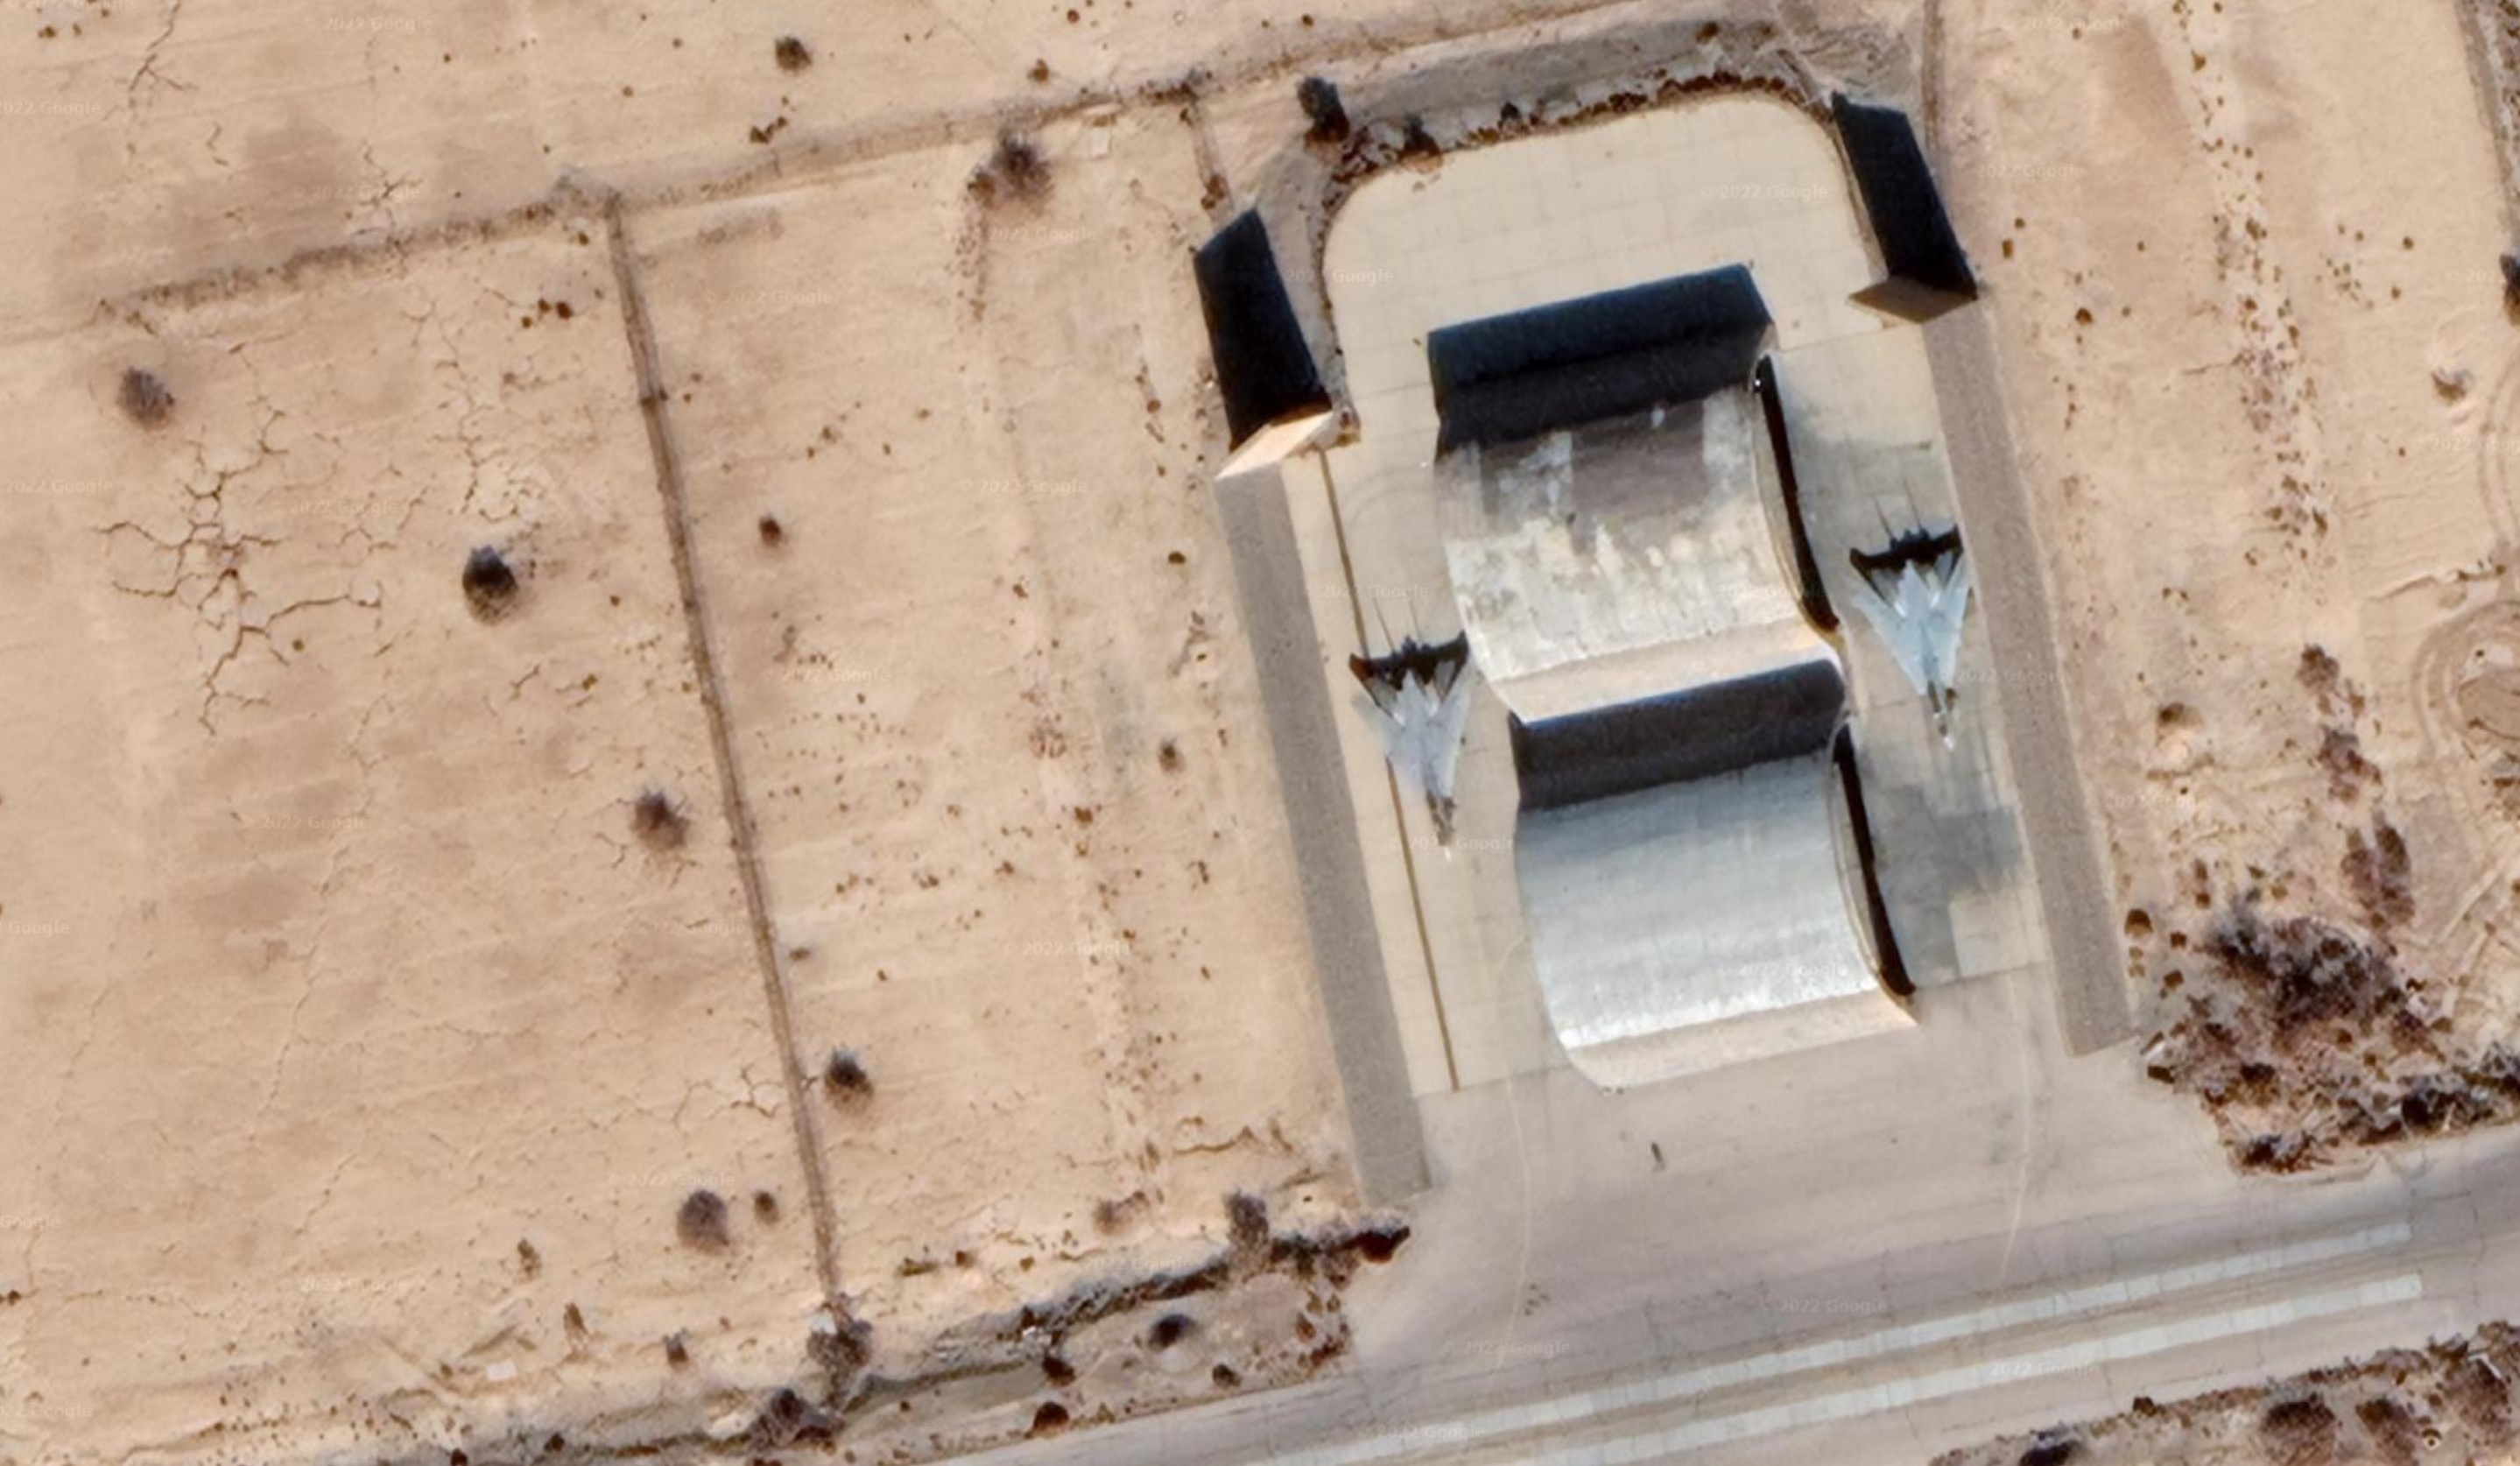F14: (1348, 647, 1477, 862), (1847, 550, 1971, 752)
